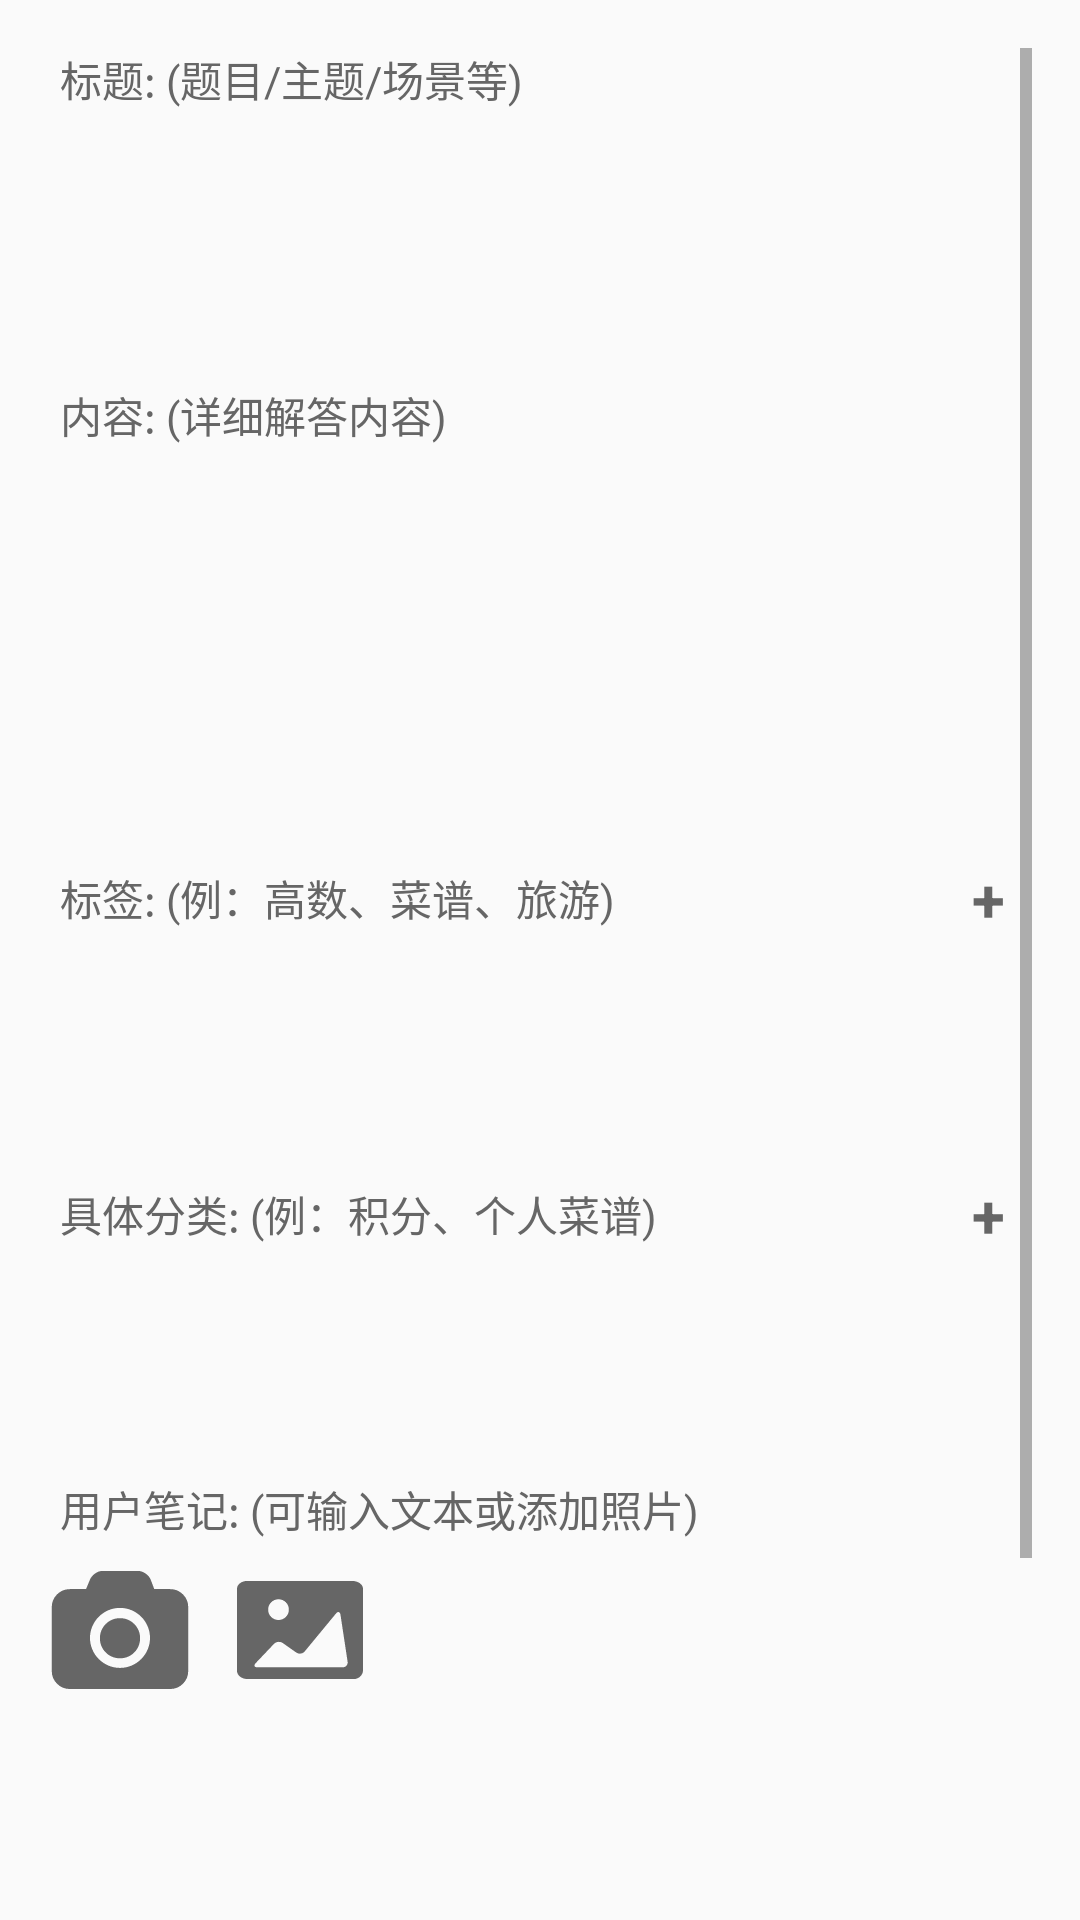

Icon click points for this 1080*1920 phone screenshot, format [x,y]:
从相册选择: [300,1630]
拍照: [120,1630]
